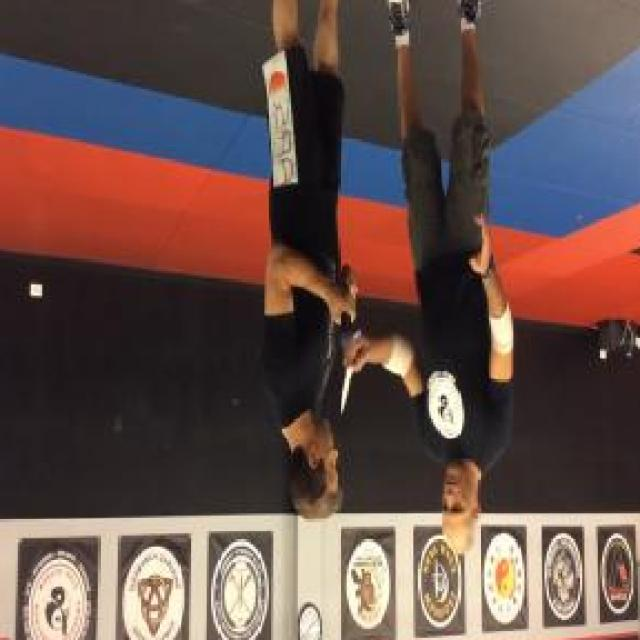knife: (338, 327, 363, 420)
